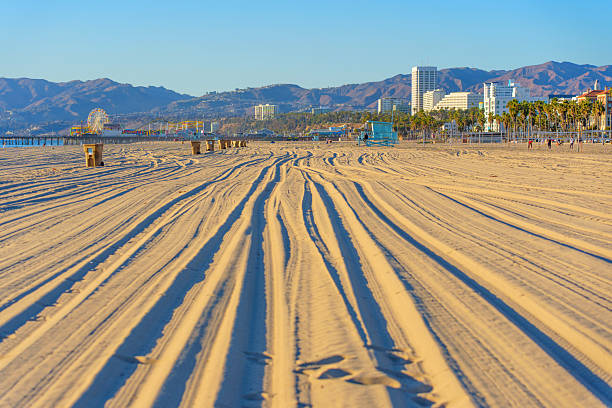vehicle_track: (364, 184, 609, 400), (0, 169, 232, 368), (356, 186, 567, 404), (109, 164, 274, 405), (309, 173, 468, 400), (167, 207, 188, 221)
